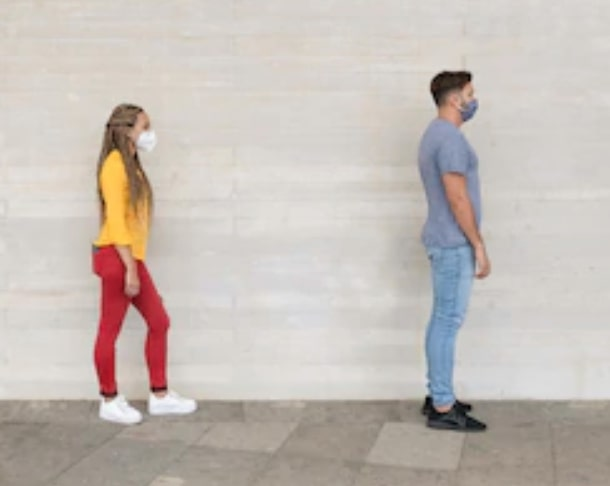Good: (92, 70, 491, 431)
